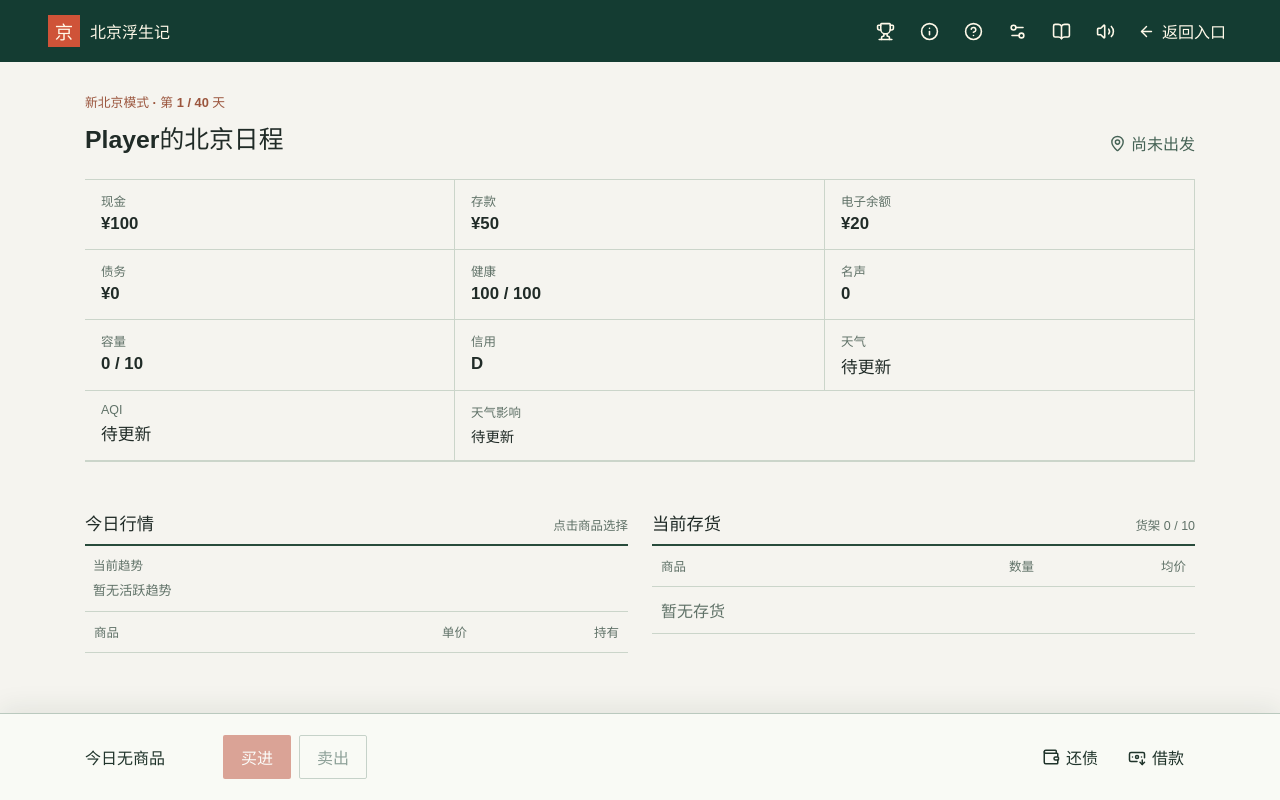
it: shows engine travel records with localized station names
Step 1. Click the button named "旅程日记" → point(1062, 31), box [1044, 13, 1080, 49]
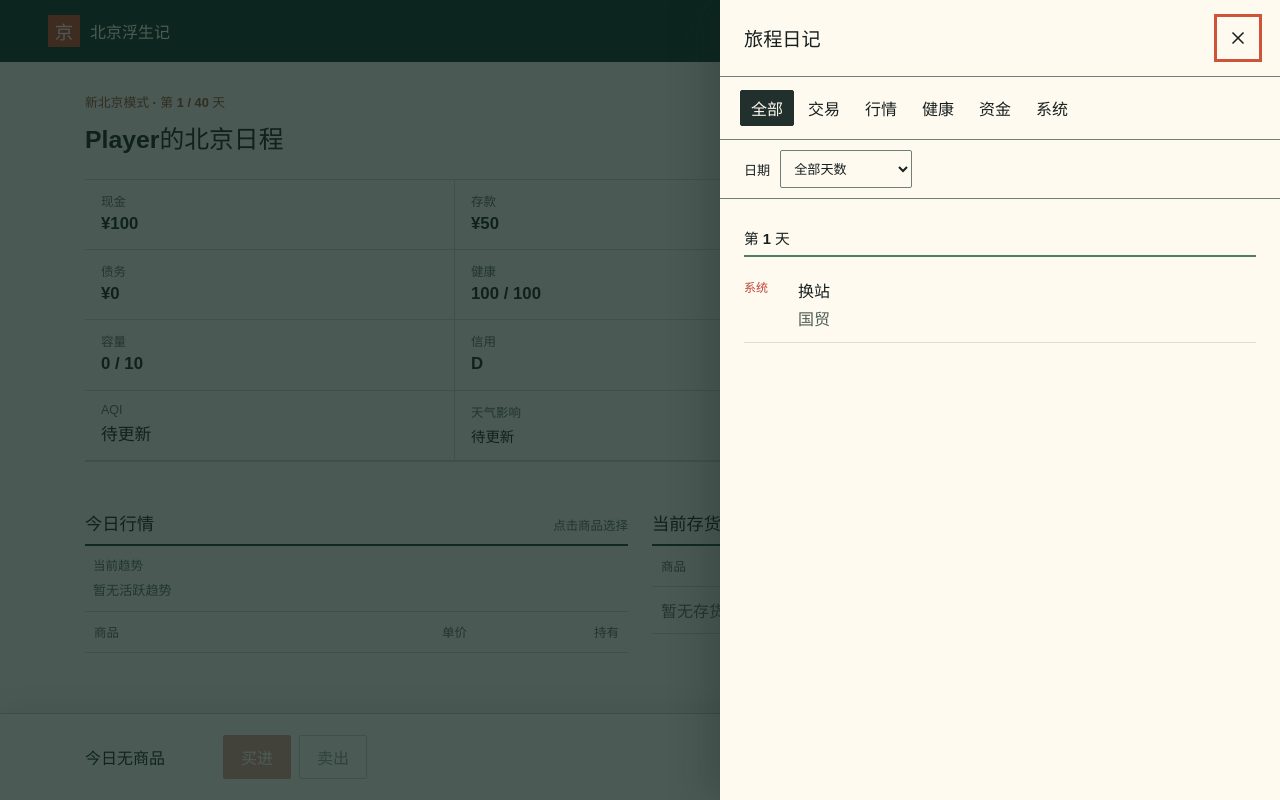
Expected: the dialog "旅程日记" does not show "guomao", [720, 0, 1279, 799]
Now the dialog "旅程日记" shows "换站", box [798, 283, 830, 300]
Now the dialog "旅程日记" shows "国贸", box [798, 311, 830, 328]
